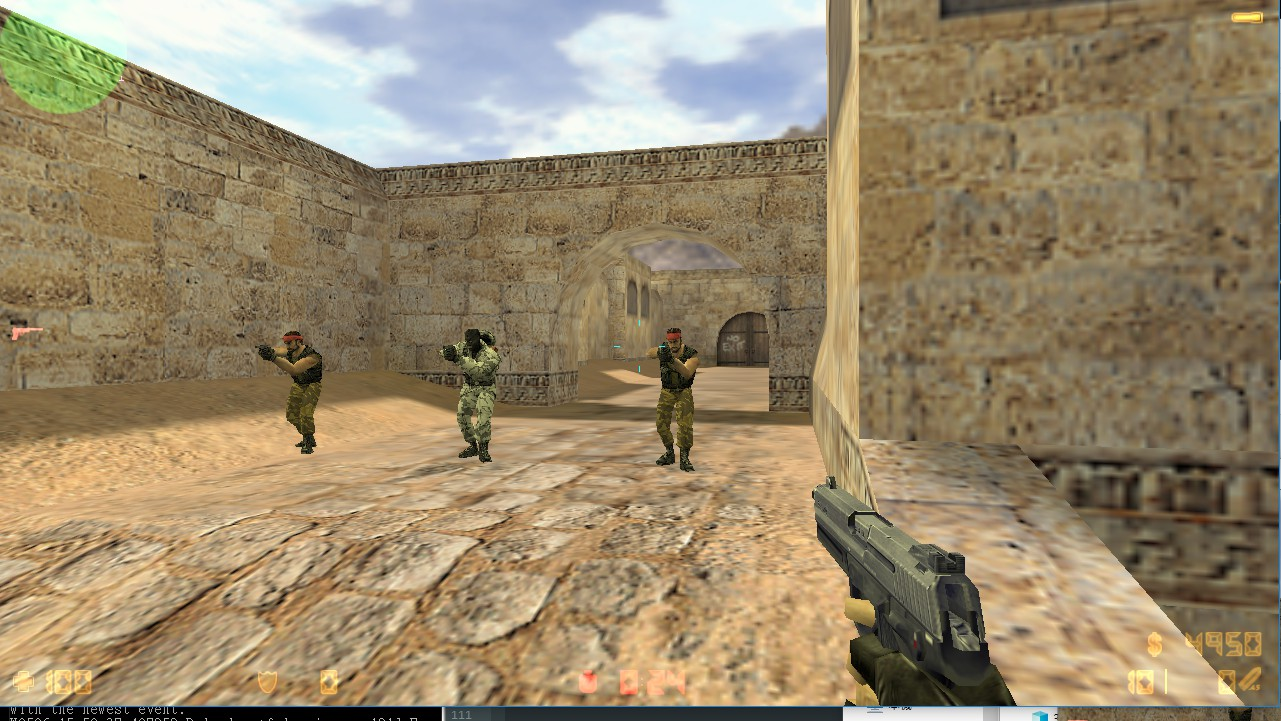person: (246, 320, 327, 457), (637, 319, 700, 475), (436, 326, 504, 464)
